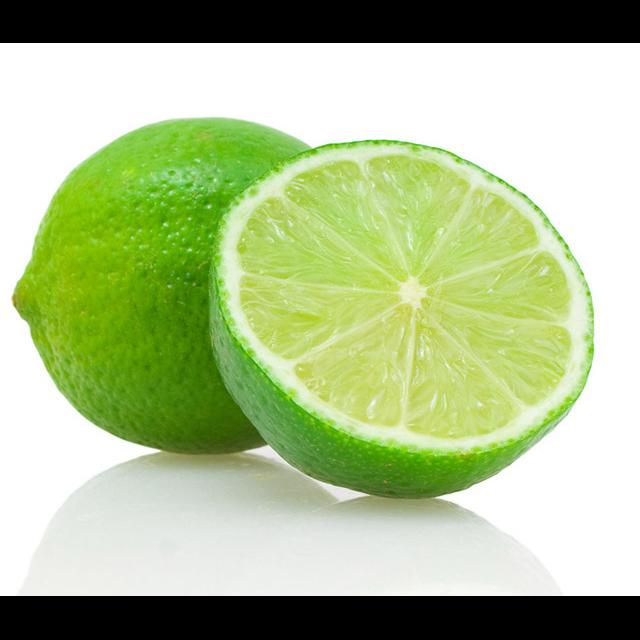lime: (3, 109, 362, 463)
